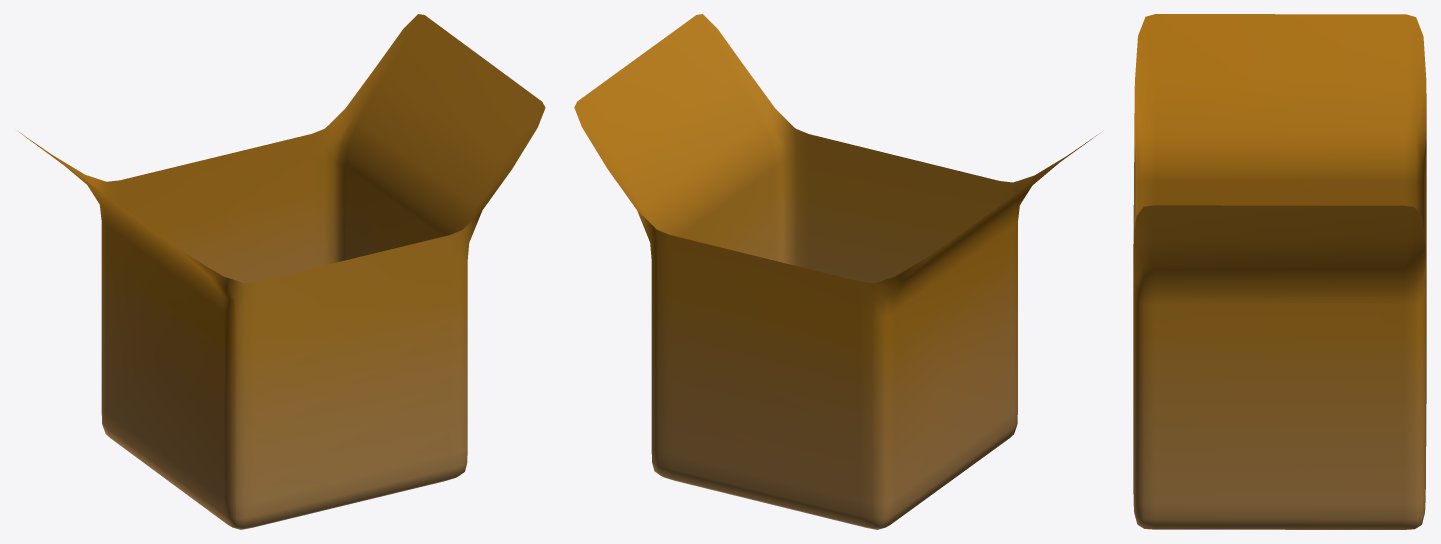
The model's file is box_open.glb.
The picture shows the model from 3 angles, left to right: view 1: azimuth 30°, elevation 25°; view 2: azimuth 150°, elevation 25°; view 3: azimuth 270°, elevation 25°; orthographic projection. The views are drawn at different scales.
Visible parts, largest first — view 1: box_open; view 2: box_open; view 3: box_open.
Boxes of the visible parts, x1,y1,x2,y2 form: box_open: (18,14,545,529); box_open: (574,14,1099,529); box_open: (1133,14,1426,529).
Size of what is drawn, in the model's own units: 1.63 by 1.35 by 0.9619.
1 material, 1 textured.
